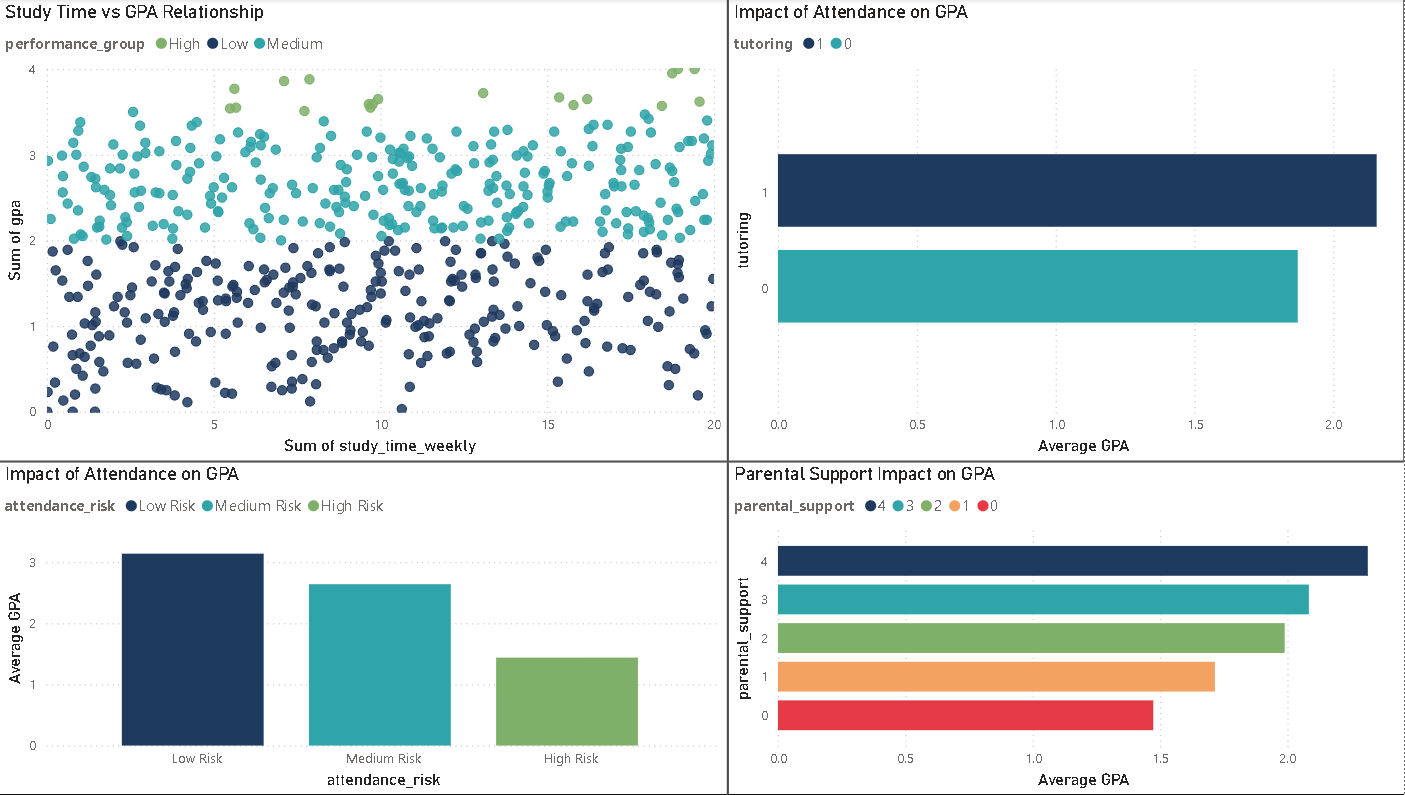

The page's visual inventory and layout, read from the dashboard file:
{"tool":"powerbi","page":{"name":"Engagement and Behavior","canvas":[1280,720],"ordinal":1},"visuals":[{"type":"scatterChart","fields":{"X":["Sum(Students.study_time_weekly)"],"Y":["Sum(Students.gpa)"],"Series":["Students.performance_group"],"Category":["Students.student_id"]},"box":[10,0,492.9,418.6],"z":0},{"type":"columnChart","fields":{"Category":["Students.attendance_risk"],"Y":["Students.Average GPA"],"Series":["Students.attendance_risk"]},"box":[10,429,493,291],"z":1000},{"type":"barChart","fields":{"Category":["Students.tutoring"],"Y":["Students.Average GPA"],"Series":["Students.tutoring"]},"box":[513,0,493,419],"z":2000},{"type":"barChart","fields":{"Category":["Students.parental_support"],"Y":["Students.Average GPA"],"Series":["Students.parental_support"]},"box":[513,429,493,291],"z":3000}]}

Visuals, with their boxes in screenshot pixels (x1, y1, x2, y2), scaled from the page's 1280x720 canvas onto the 1405x795 screenshot:
scatterChart - Sum(Students.study_time_weekly) x Sum(Students.gpa): rect(11, 0, 552, 462)
columnChart - Students.attendance_risk x Students.Average GPA: rect(11, 474, 552, 794)
barChart - Students.tutoring x Students.Average GPA: rect(563, 0, 1104, 463)
barChart - Students.parental_support x Students.Average GPA: rect(563, 474, 1104, 794)
